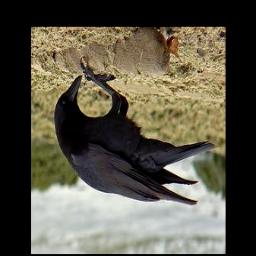Crow: (53, 56, 217, 206)
